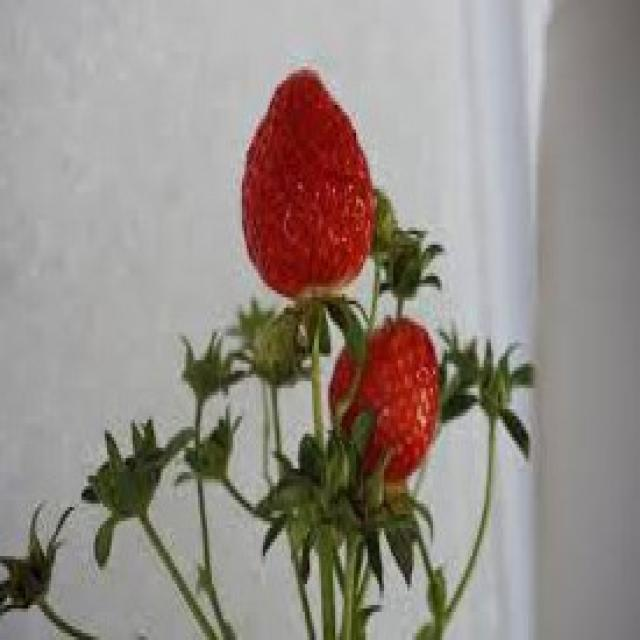mature: (242, 66, 374, 304), (330, 319, 439, 484)
